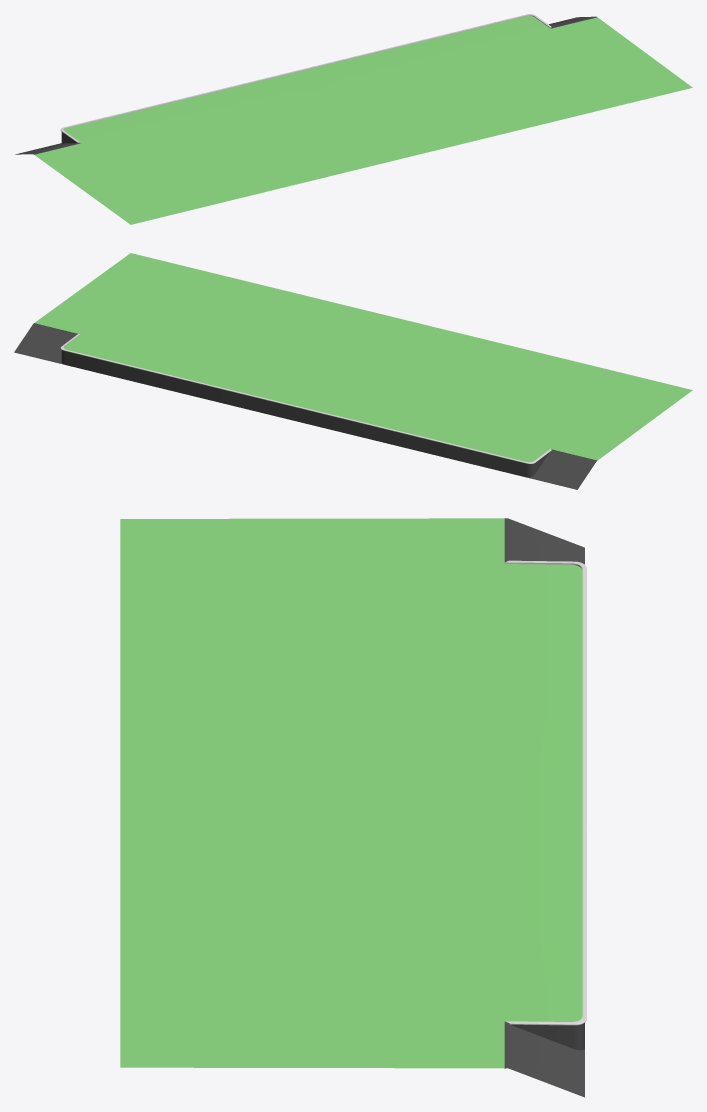
Rendered from CC_Stage.fbx.
3 renders of one model, top to bottom at view 1: azimuth 30°, elevation 25°; view 2: azimuth 150°, elevation 25°; view 3: azimuth 270°, elevation 25°, orthographic. The views are drawn at different scales.
Parts seen in each view (by area): view 1: CC_Stage; view 2: CC_Stage; view 3: CC_Stage.
Part boxes in pixels (x1,y1,x2,y2): CC_Stage: (15, 14, 692, 224); CC_Stage: (14, 253, 692, 489); CC_Stage: (120, 518, 586, 1097).
Size of the model in its own units: 2612 by 68.21 by 935.
